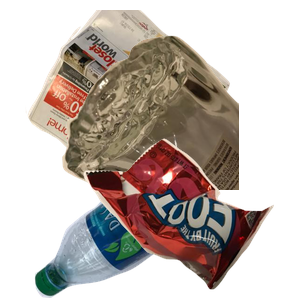glass: (60, 33, 300, 213)
paper: (23, 10, 245, 190)
plastic: (32, 154, 242, 300)
trash: (81, 136, 300, 300)
